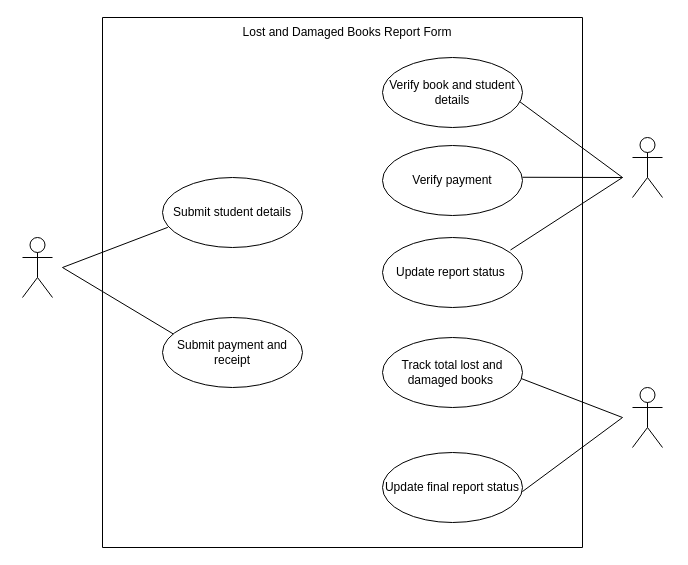
This 688x565 diagram has some shape labels left out. Here are the shapes that lost their labels. From the top down, the box of each, then its label:
(632, 136, 662, 198): Librarian
(22, 236, 52, 298): Student
(632, 386, 662, 448): Admin
